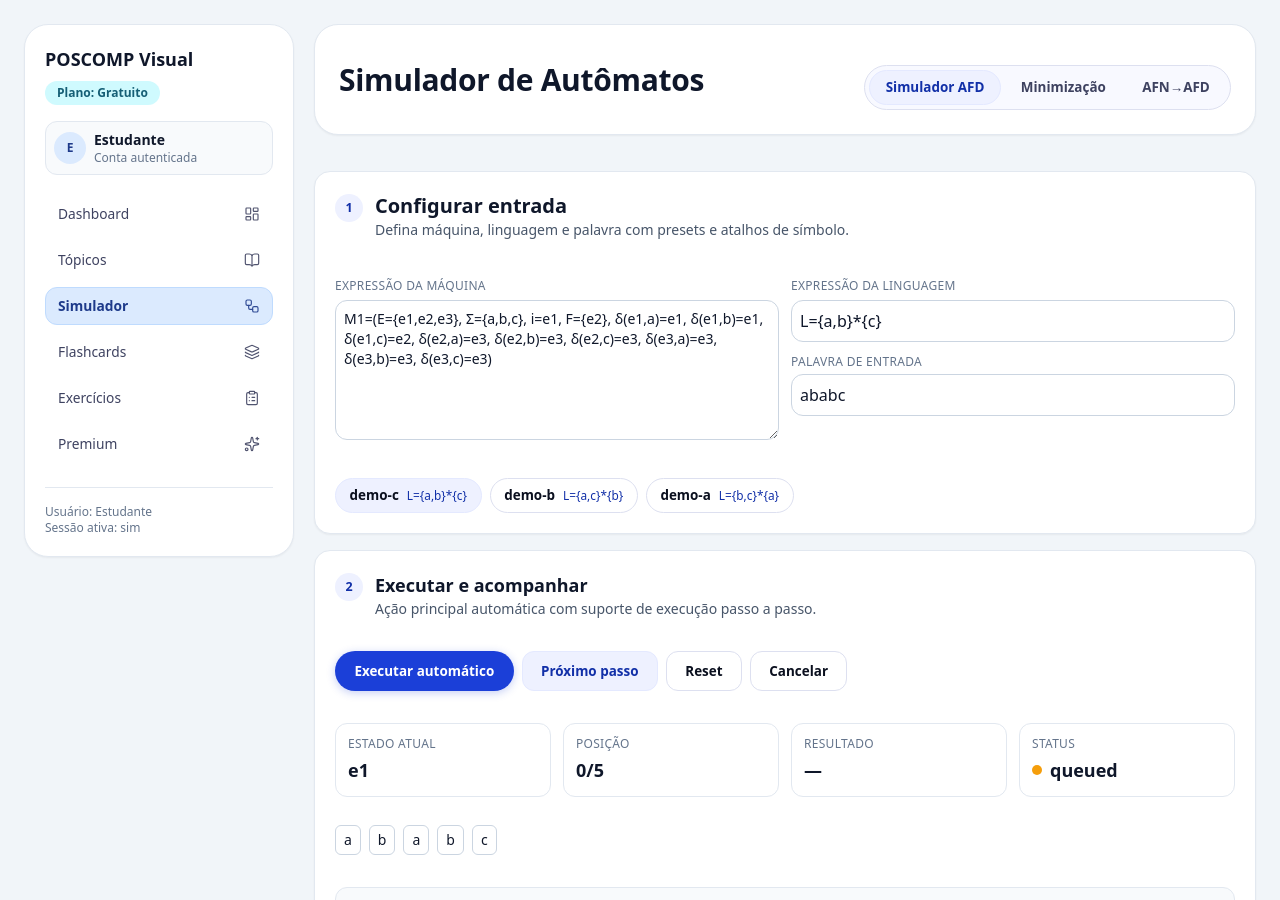
Test: módulo de tópicos › exibe catálogo com filtros de estudo
Click the button "Tópicos". click: click(159, 260)
box: [45,241,273,279]
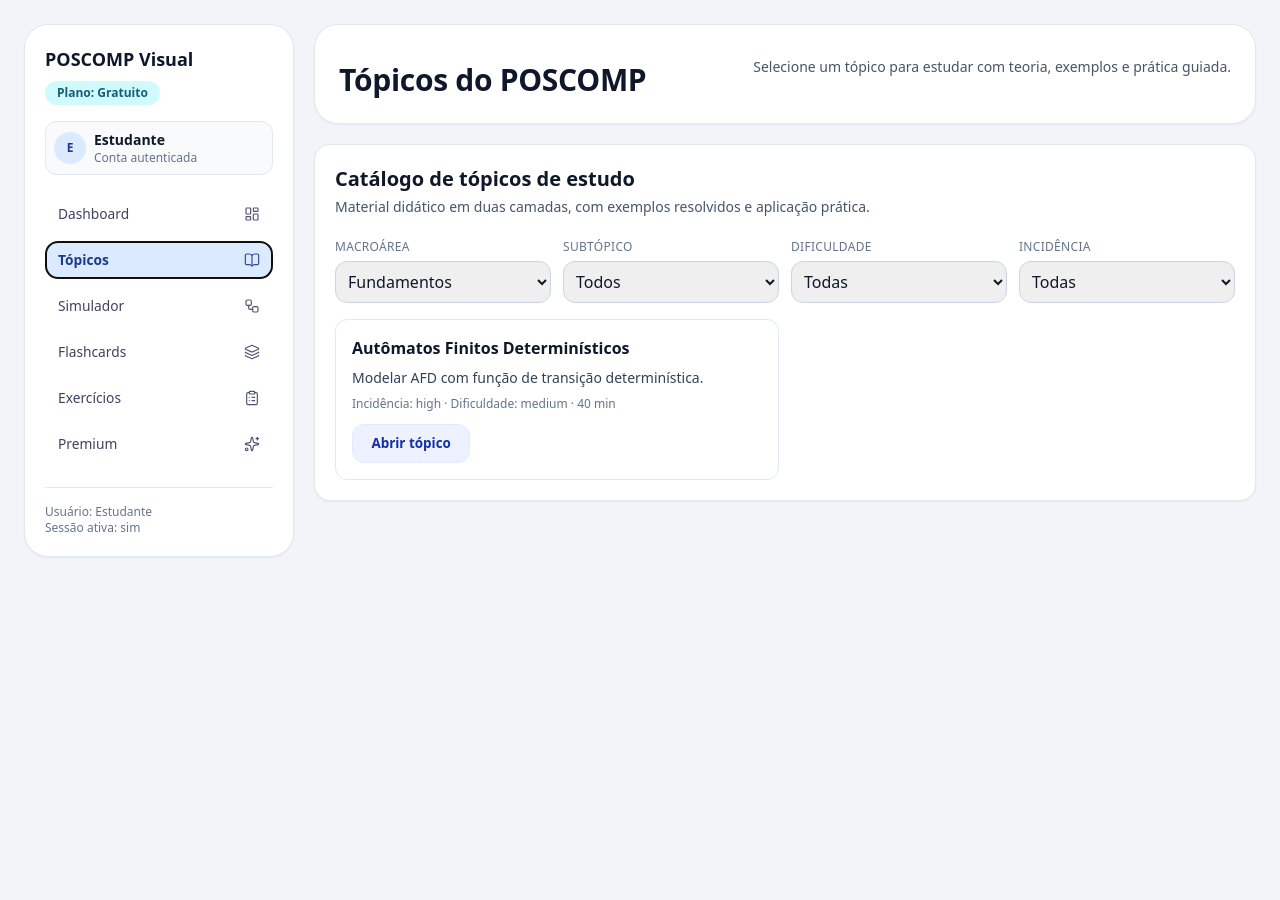
Expected: the heading "Catálogo de tópicos de estudo" is shown, [335,164,635,192]
Expected: the dropdown labelled "Macroárea" is shown, [335,260,551,302]
Expected: the dropdown labelled "Subtópico" is shown, [563,260,779,302]
